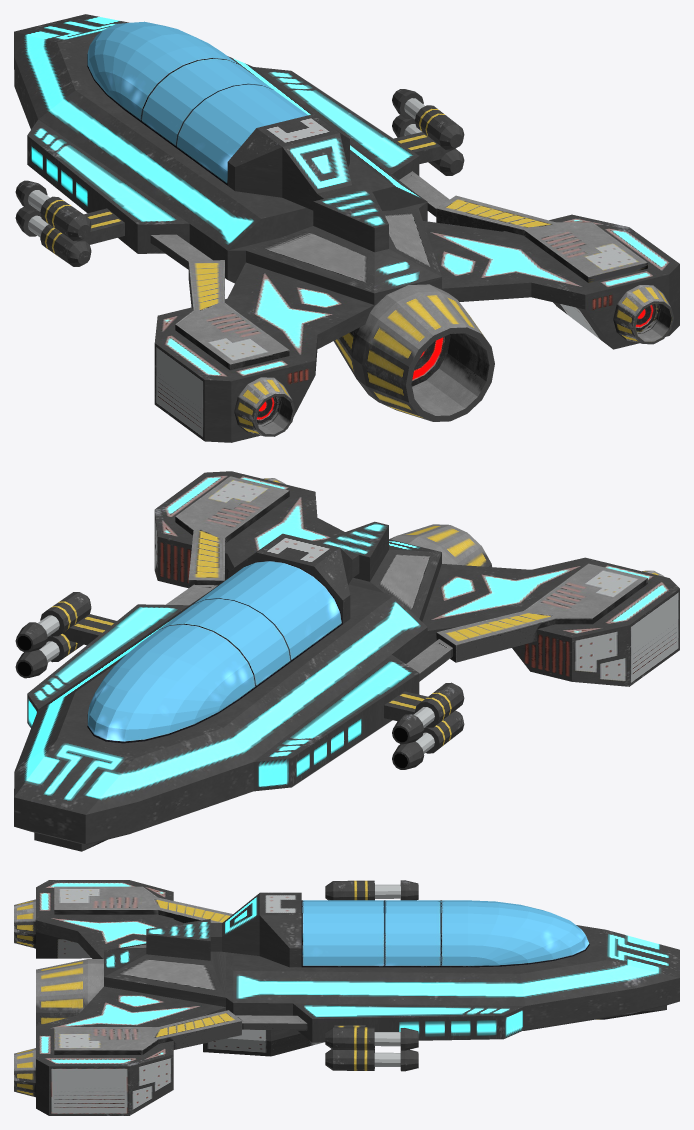
File: spaceship.glb
The picture shows the model from 3 angles, top to bottom: view 1: azimuth 30°, elevation 25°; view 2: azimuth 150°, elevation 25°; view 3: azimuth 270°, elevation 25°; orthographic projection. The views are drawn at different scales.
Visible parts, largest first — view 1: Base_low, CockPit_low, JetBaseLeft_low, JetBaseRight_low, MainJet_low, BaseBack_low, CockPitBack_low, BaseLeft_low, ConnectRight_low, ConnectLeft_low, BaseRight_low, JetLeft_low (+6 smaller); view 2: Base_low, CockPit_low, JetBaseLeft_low, BaseLeft_low, ConnectLeft_low, JetBaseRight_low, ConnectRight_low, BaseBack_low, BaseRight_low, CockPitBack_low, MainJet_low, GunRightTopBack_low (+8 smaller); view 3: Base_low, CockPit_low, JetBaseRight_low, BaseBack_low, BaseRight_low, JetBaseLeft_low, ConnectRight_low, CockPitBack_low, ConnectLeft_low, MainJet_low, Bottom_low, GunRightTopBack_low (+9 smaller).
Boxes of the visible parts, <box> form: Base_low: <box>14,14,427,283</box>; CockPit_low: <box>87,21,307,185</box>; JetBaseLeft_low: <box>154,262,374,442</box>; JetBaseRight_low: <box>423,214,679,349</box>; MainJet_low: <box>352,284,494,421</box>; BaseBack_low: <box>246,187,441,305</box>; CockPitBack_low: <box>227,114,358,210</box>; BaseLeft_low: <box>27,119,189,253</box>; ConnectRight_low: <box>399,171,647,282</box>; ConnectLeft_low: <box>150,234,289,370</box>; BaseRight_low: <box>254,67,419,179</box>; JetLeft_low: <box>234,377,295,436</box>; Base_low: <box>14,578,427,844</box>; CockPit_low: <box>87,560,342,743</box>; JetBaseLeft_low: <box>422,557,679,686</box>; BaseLeft_low: <box>253,654,419,791</box>; ConnectLeft_low: <box>406,563,647,681</box>; JetBaseRight_low: <box>154,471,344,588</box>; ConnectRight_low: <box>165,476,289,605</box>; BaseBack_low: <box>318,521,441,621</box>; BaseRight_low: <box>27,604,188,727</box>; CockPitBack_low: <box>228,533,359,623</box>; MainJet_low: <box>389,524,491,566</box>; GunRightTopBack_low: <box>40,592,91,636</box>; Base_low: <box>226,925,679,1030</box>; CockPit_low: <box>301,900,589,967</box>; JetBaseRight_low: <box>36,986,225,1115</box>; BaseBack_low: <box>104,919,225,1006</box>; BaseRight_low: <box>293,1003,525,1042</box>; JetBaseLeft_low: <box>36,880,183,958</box>; ConnectRight_low: <box>54,1010,307,1054</box>; CockPitBack_low: <box>210,892,301,967</box>; ConnectLeft_low: <box>54,886,232,922</box>; MainJet_low: <box>36,959,103,1025</box>; Bottom_low: <box>203,1005,666,1056</box>; GunRightTopBack_low: <box>325,1027,374,1050</box>.
Bounding box in the file's own units: 3.66 × 1.41 × 5.53.
Materials: 1 (1 with a texture image).
